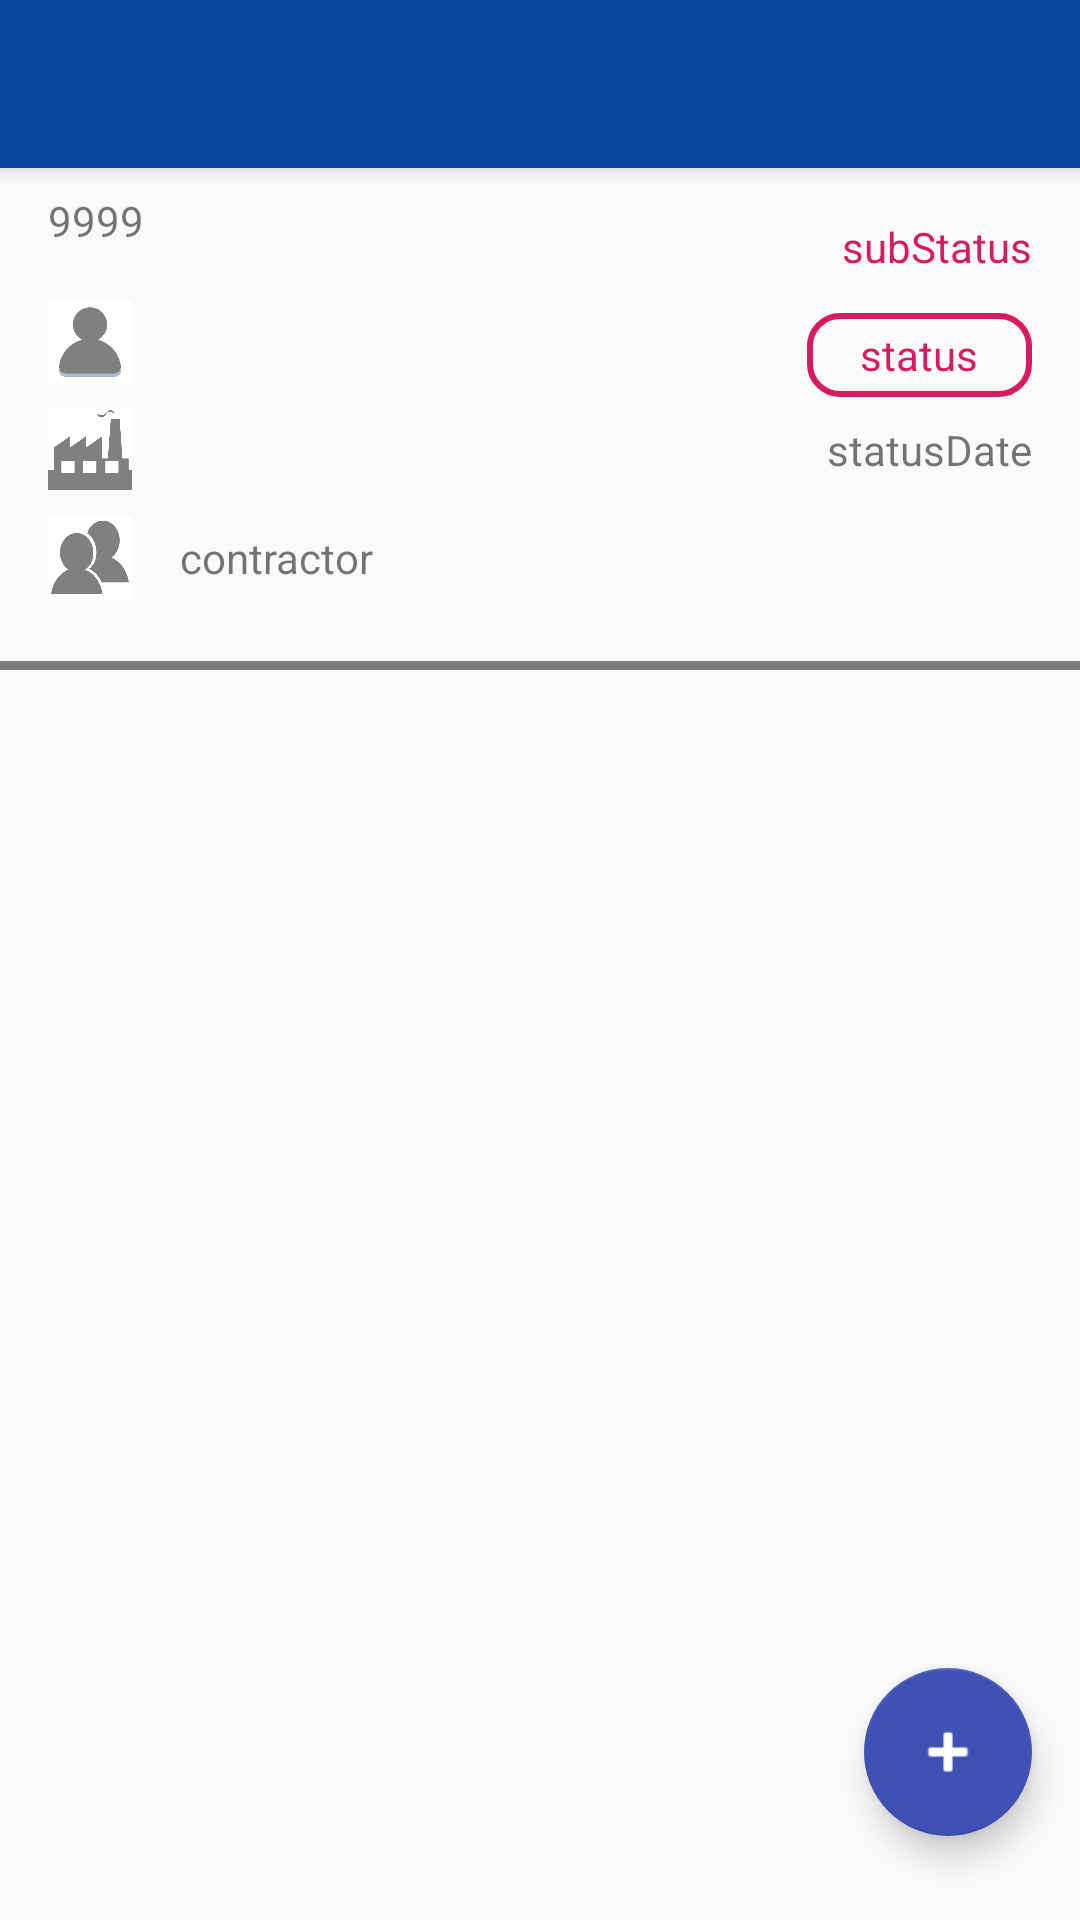

Named icons in this screenshot (1080x1920) and their bounding boxes, bbox=[x1, y1, x2, y2]:
add: bbox=[864, 1668, 1032, 1836]
factory: bbox=[48, 410, 132, 490]
user: bbox=[59, 307, 121, 377]
